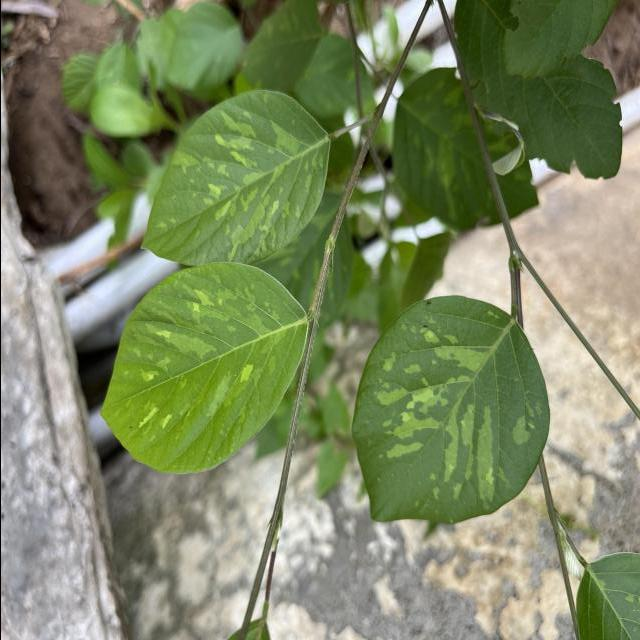Desmodium gangeticum: (348, 290, 554, 529), (96, 259, 310, 478), (131, 82, 333, 270)
